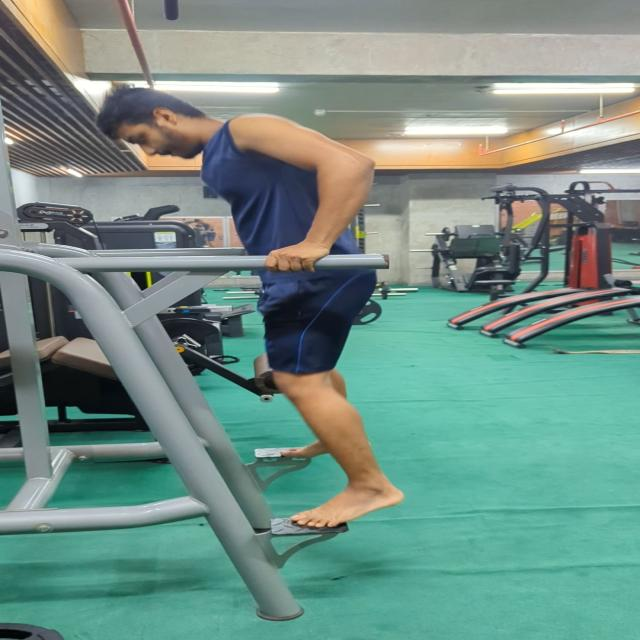Normal_Dips: (86, 77, 418, 540)
